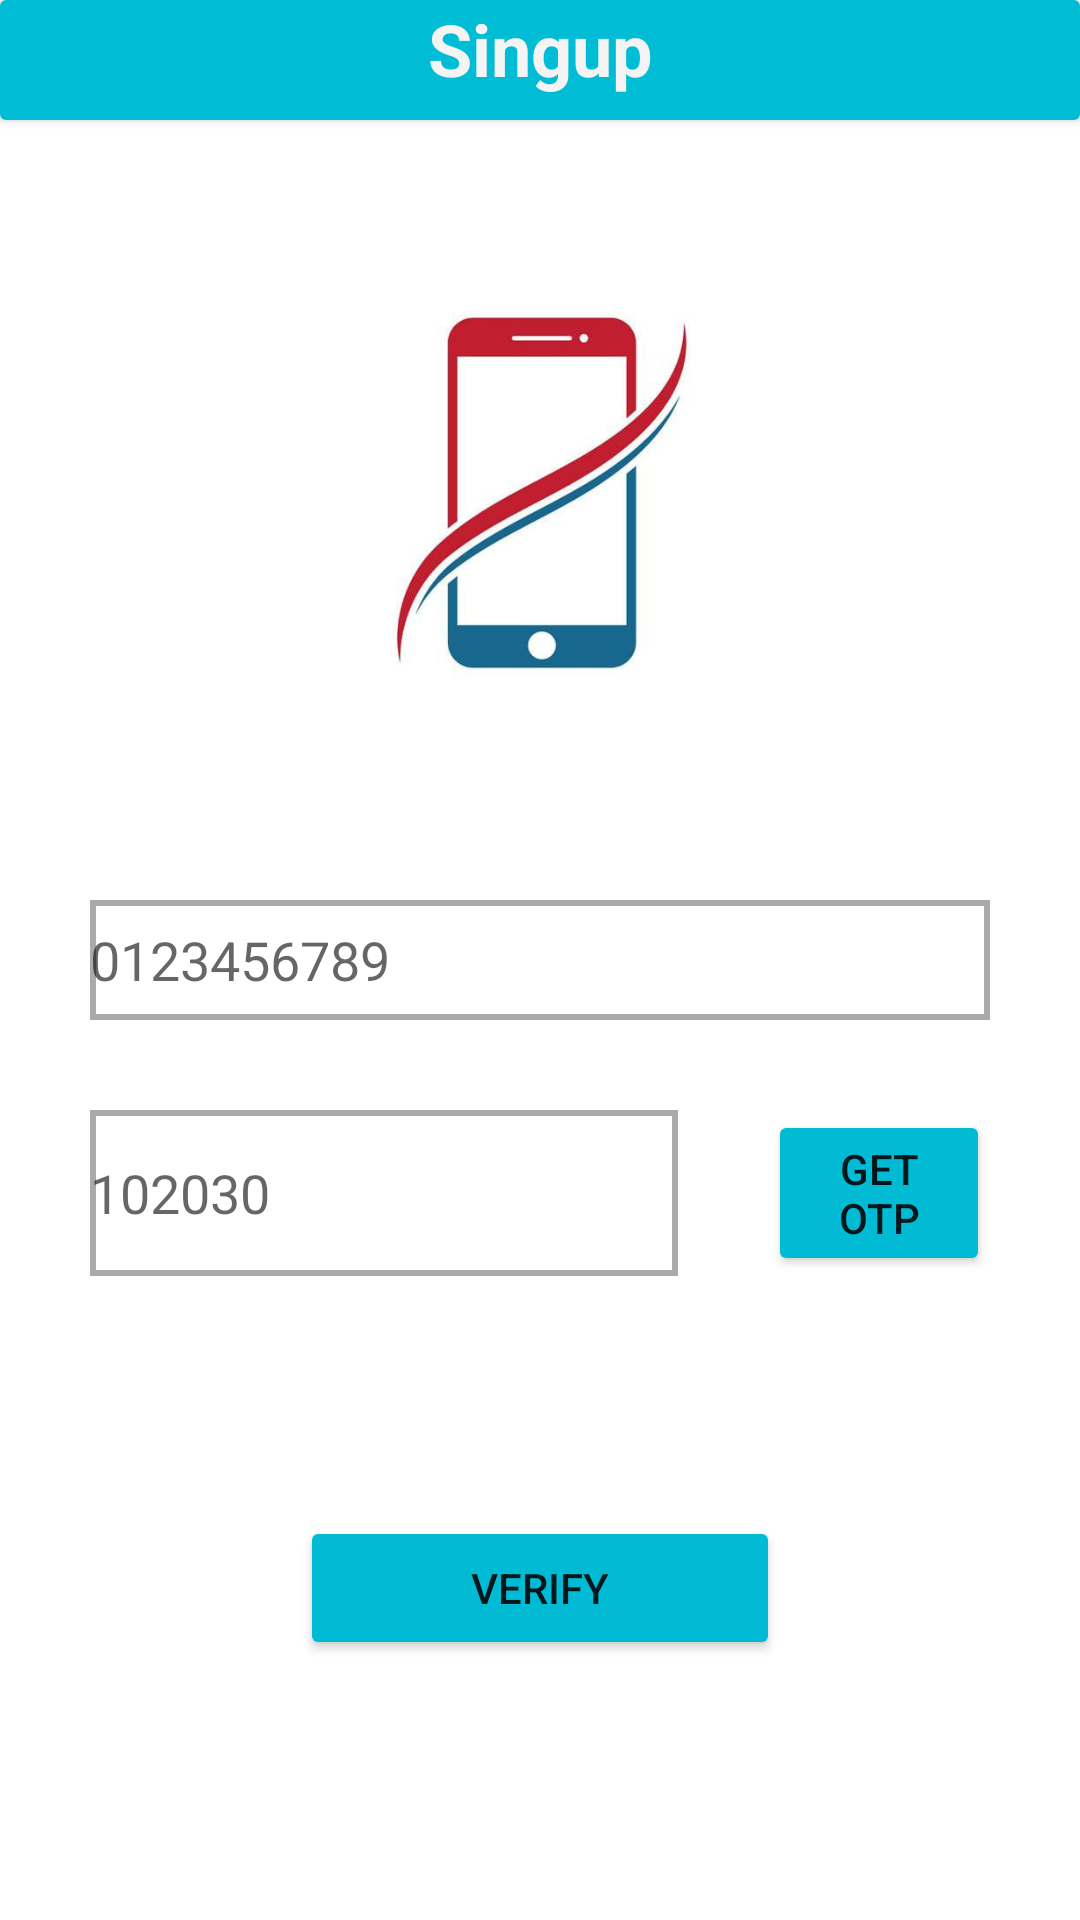

Icon click points for this 1080x1920 phone screenshot, format point (x, y):
phone: point (541, 492)
